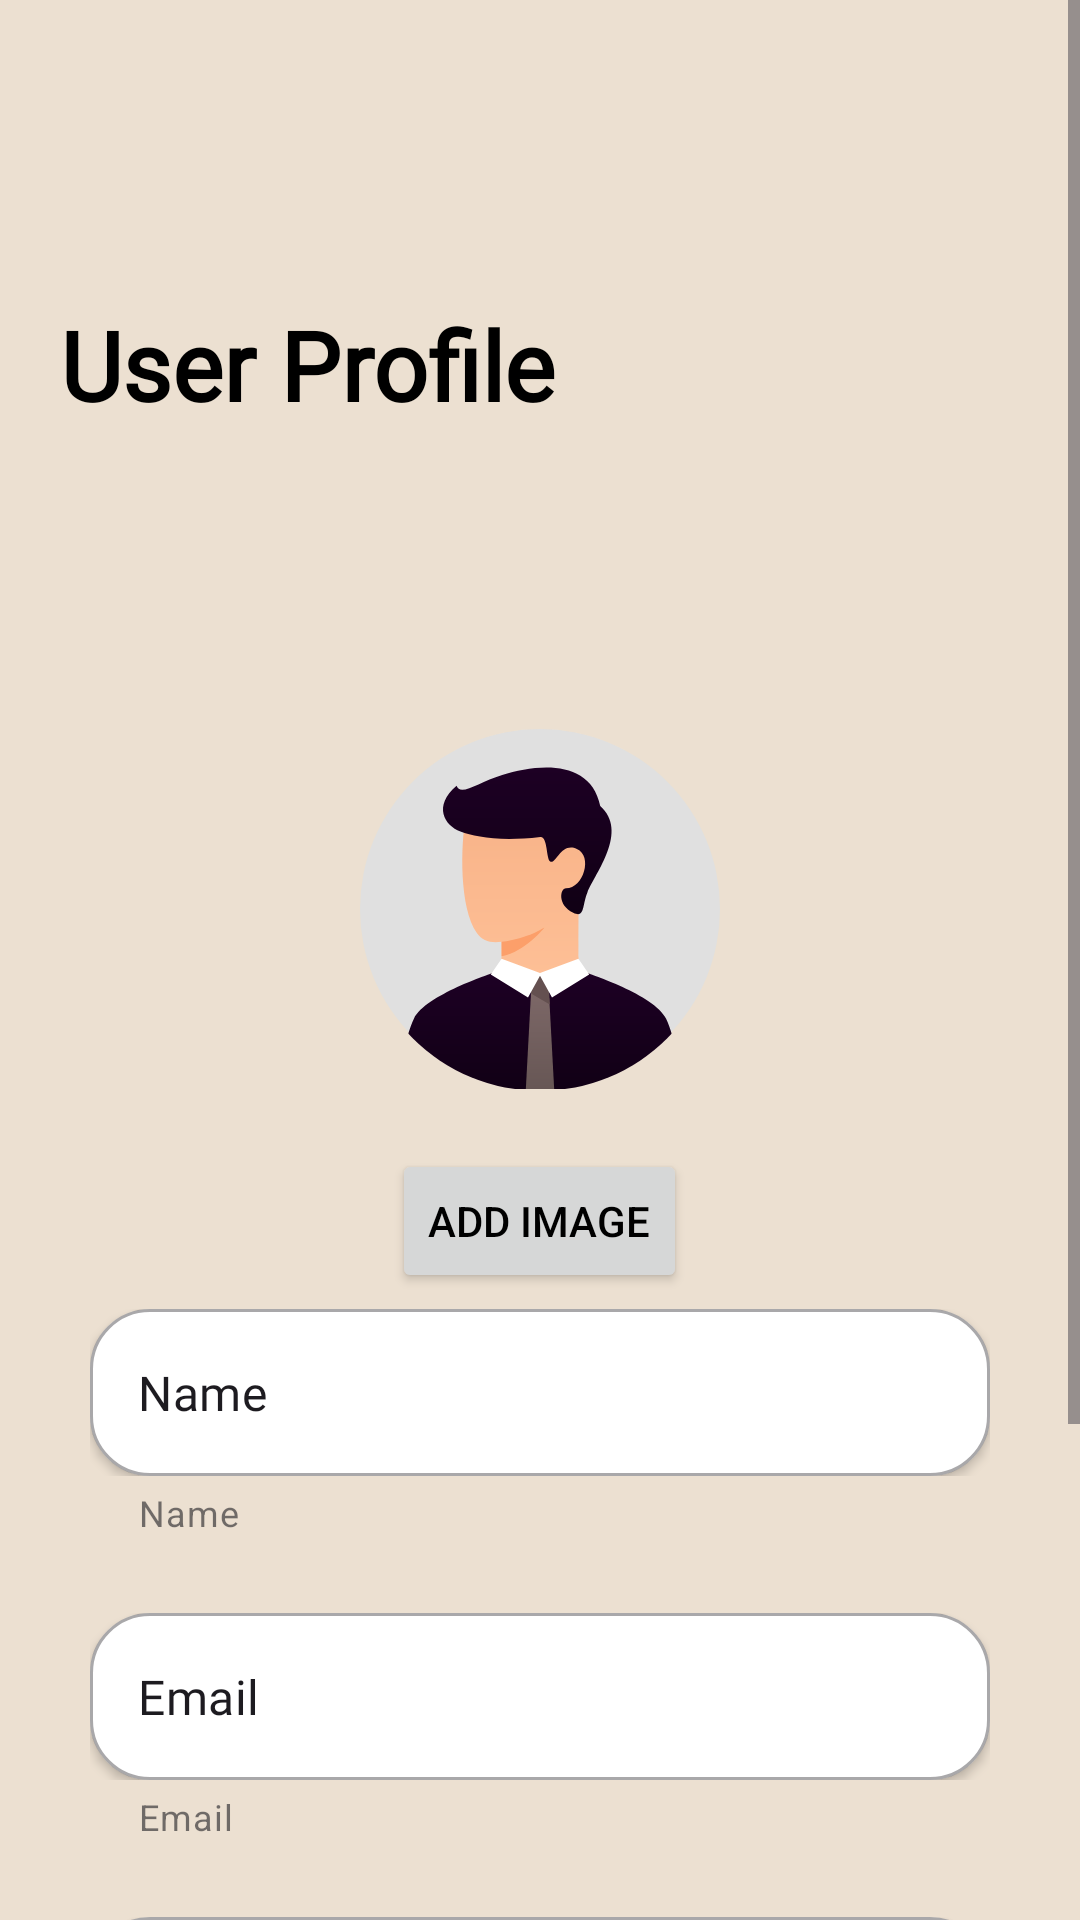

Locate icon controls on the screen. Image size 1080px x 1920px, boxes as BBox(x1, y1, x2, y2).
profile picture: BBox(408, 767, 672, 1089)
